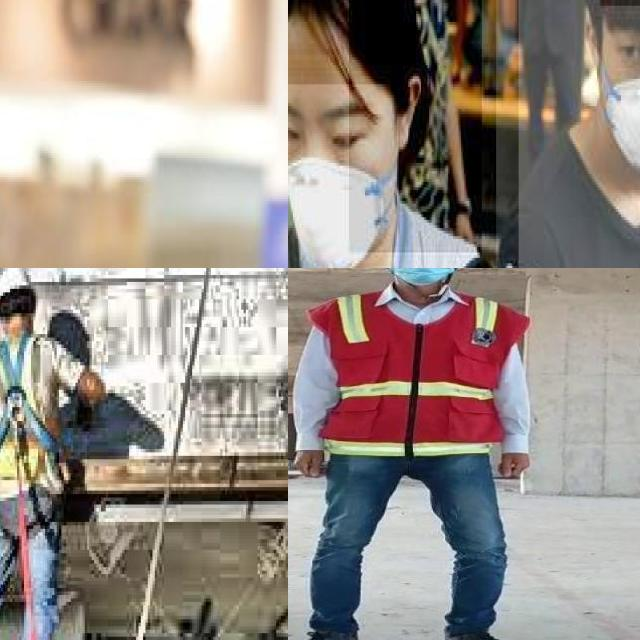Harness: (0, 332, 63, 484)
face_mask: (288, 84, 398, 268), (601, 11, 640, 171), (388, 268, 458, 286)
hand_noglove: (486, 445, 539, 483), (288, 442, 335, 482)
head_nohelmet: (288, 0, 403, 57)
person: (288, 268, 537, 640), (288, 0, 497, 268), (348, 0, 483, 255), (518, 0, 640, 268), (499, 0, 601, 133)
